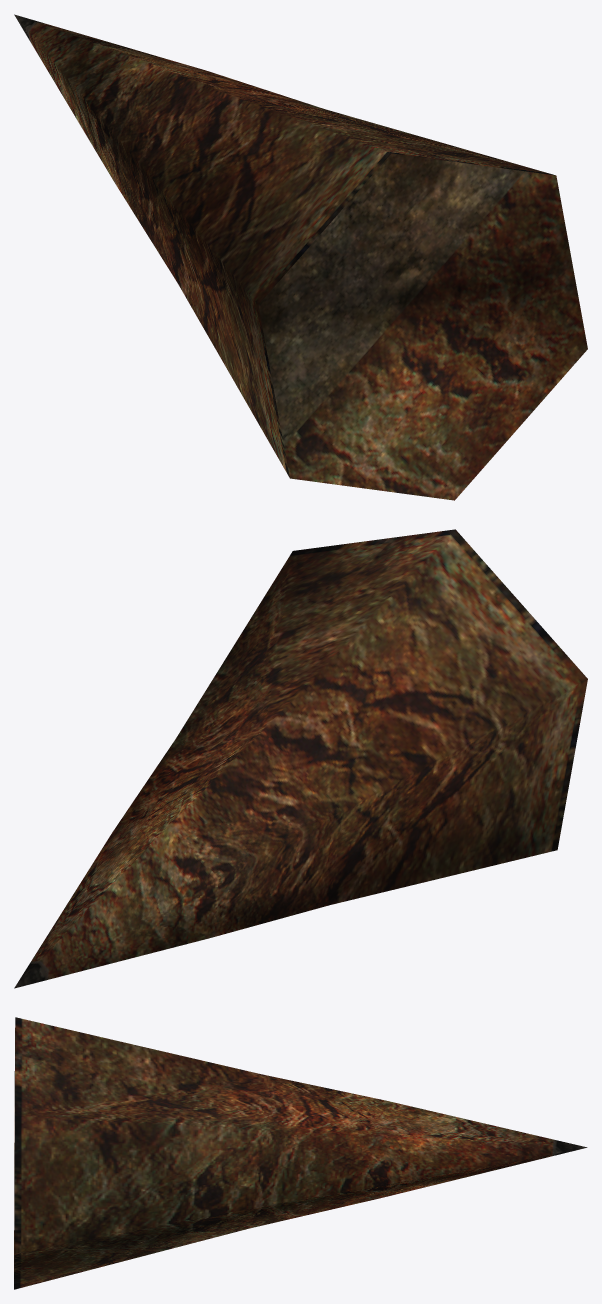
File: stalactite_12.obj
The picture shows the model from 3 angles, top to bottom: view 1: azimuth 30°, elevation 25°; view 2: azimuth 150°, elevation 25°; view 3: azimuth 270°, elevation 25°; orthographic projection. The views are drawn at different scales.
Visible parts, largest first — view 1: (null); view 2: (null); view 3: (null).
Boxes of the visible parts, x1,y1,x2,y2 form: (null): [14, 14, 587, 500]; (null): [14, 529, 587, 988]; (null): [14, 1017, 587, 1289].
Bounding box in the file's own units: 2.14 × 2.25 × 4.66.
